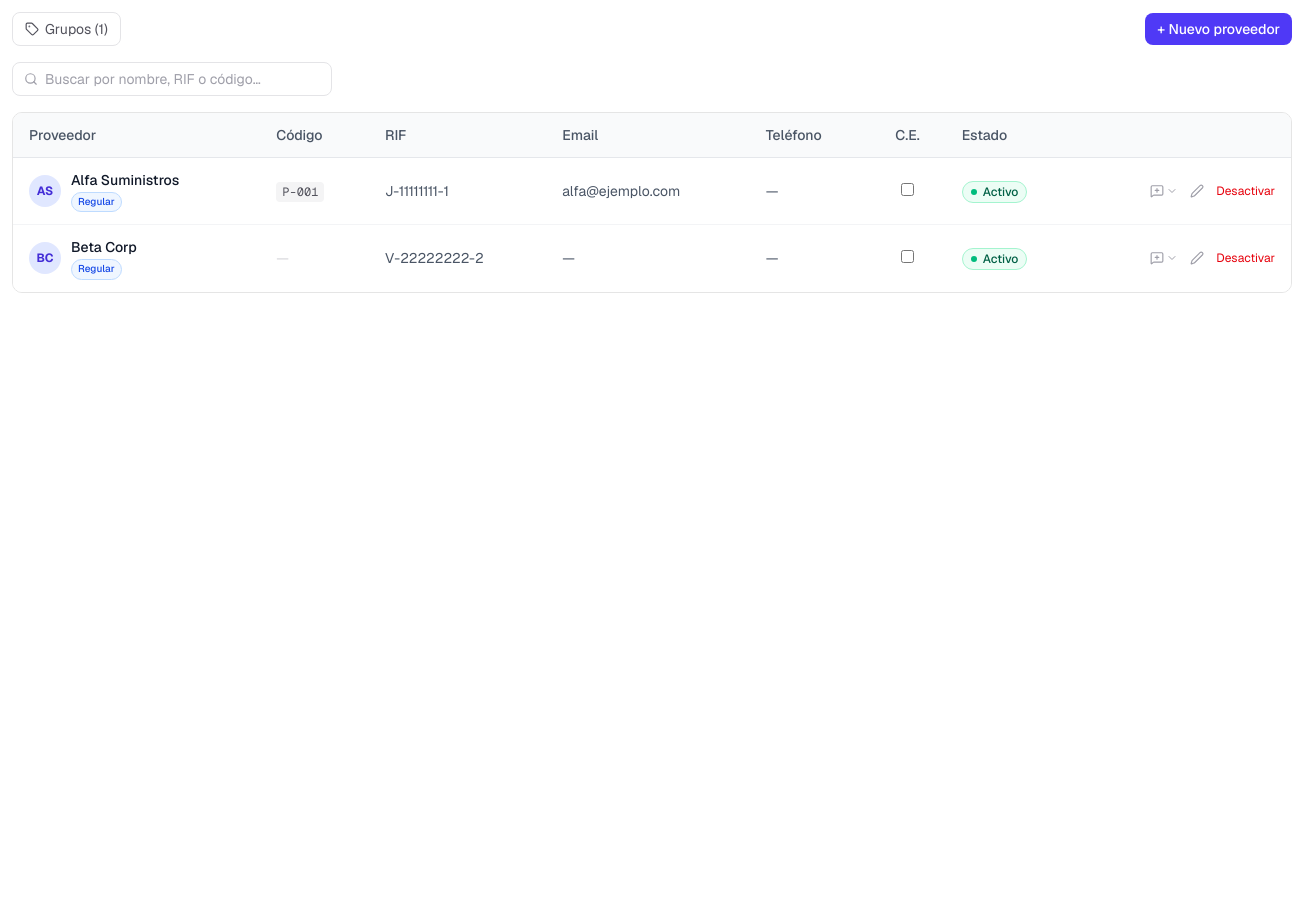
Test: VendorList — smoke del refactor RHF (P2) › createVendorAction failure → muestra el error de la action y el form sigue abierto
Click the button "+ Nuevo proveedor". click: {"x": 1219, "y": 29}
box: [1145,13,1292,45]
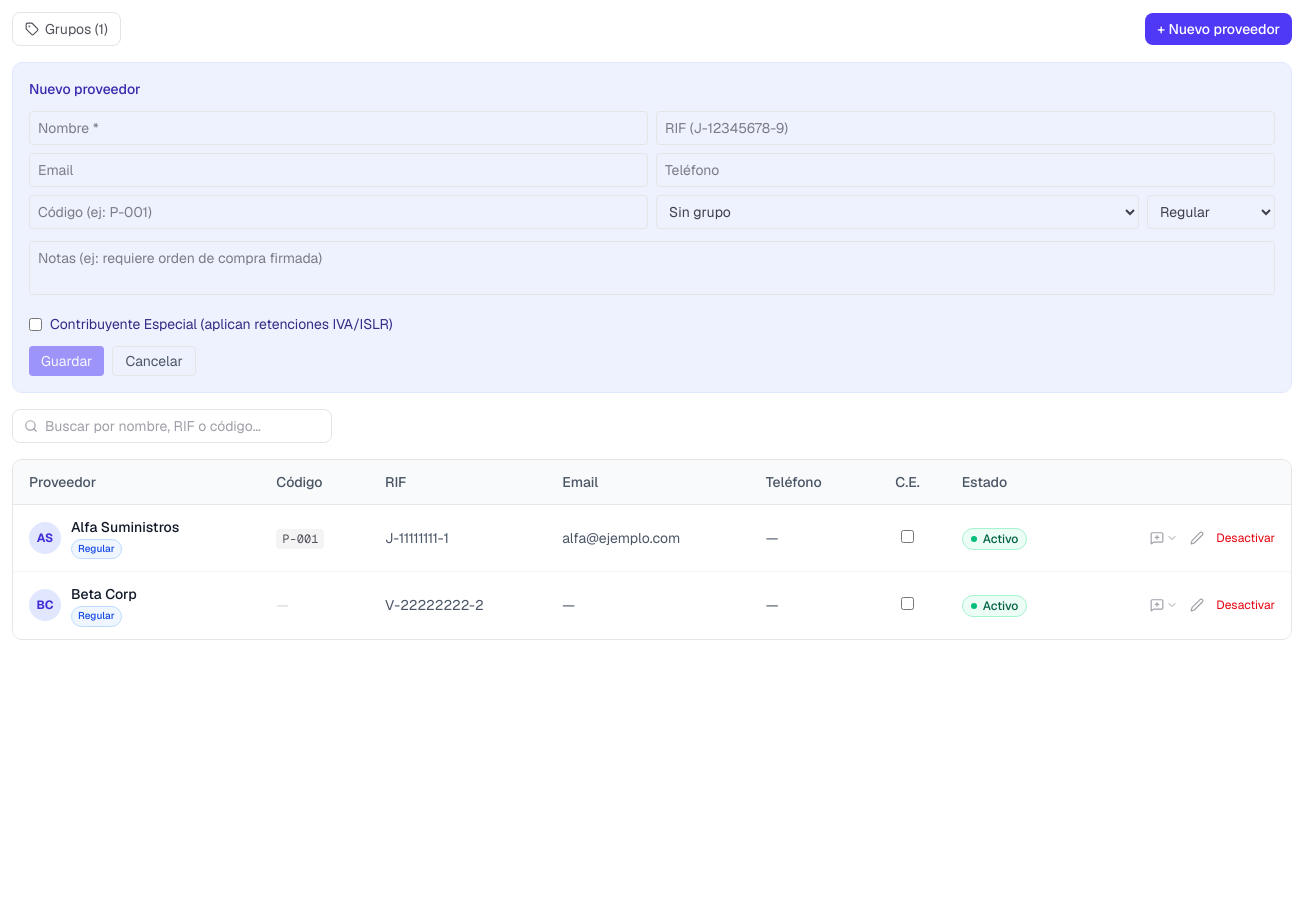
Type "Proveedor Duplicado" into the field with placeholder "Nombre *". click: {"x": 338, "y": 128}
box: [29,111,648,145]
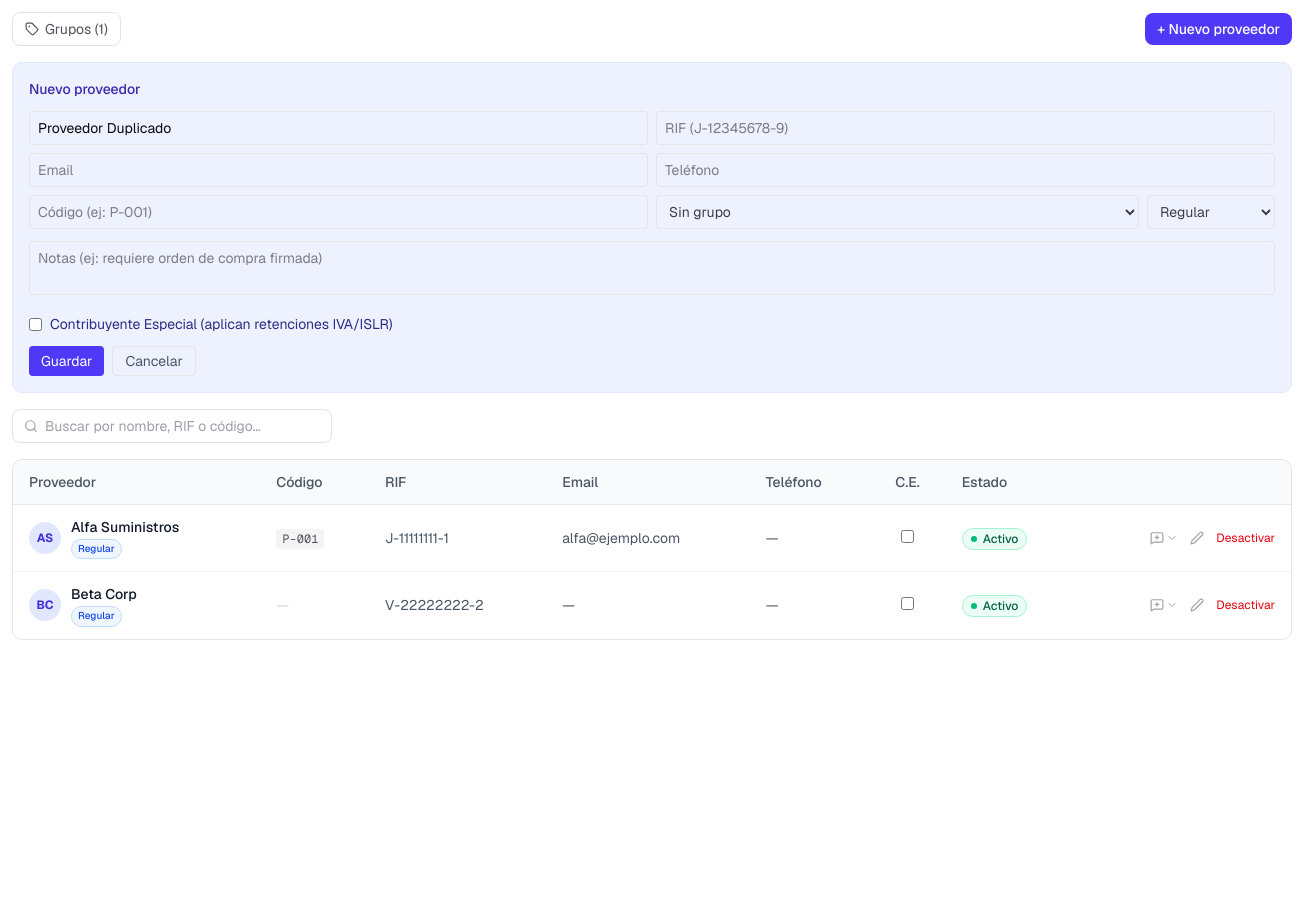
Click the button "Guardar". click: {"x": 67, "y": 361}
box: [29,346,104,376]
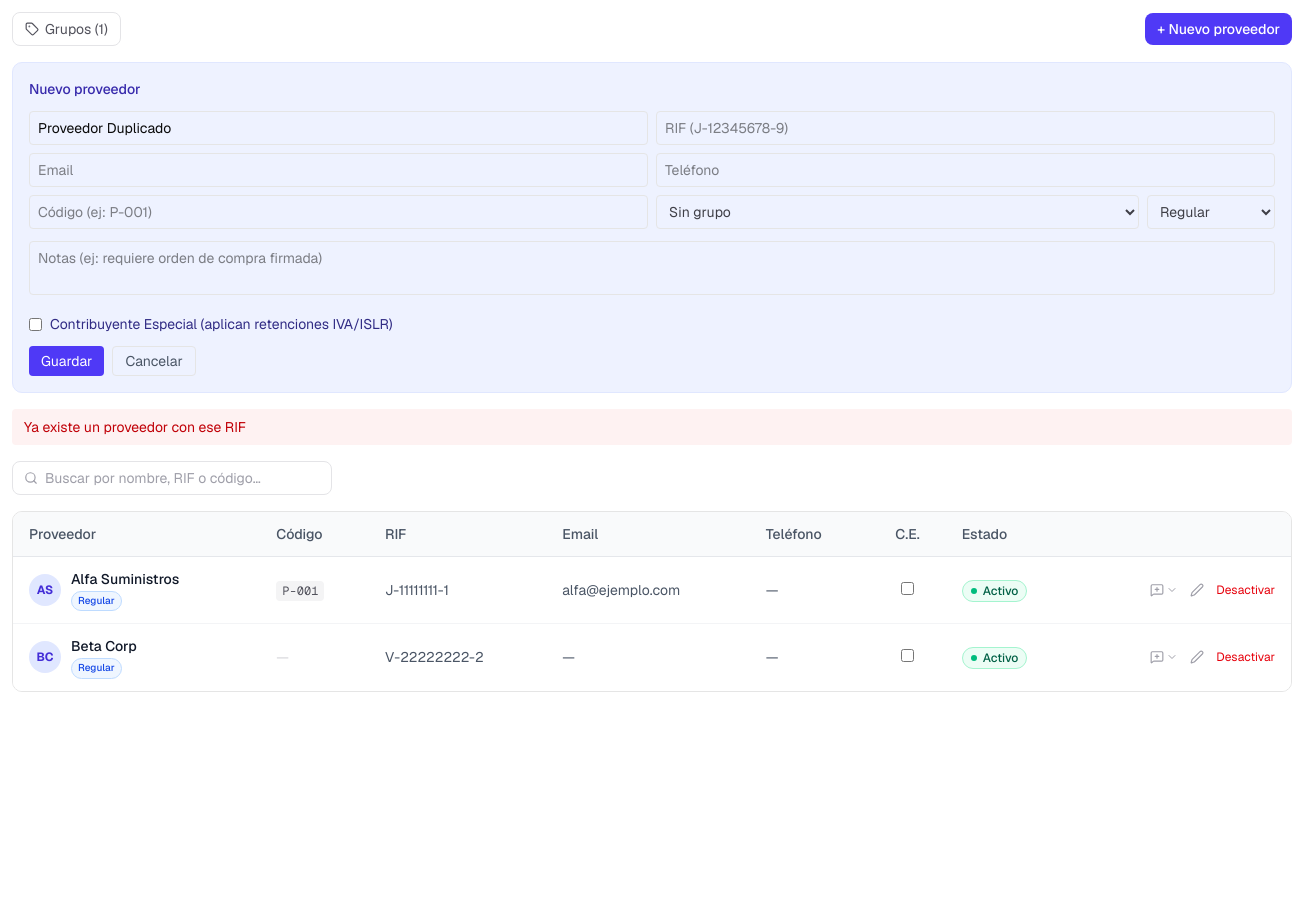
Expected: the text "Ya existe un proveedor con ese RIF" is shown, [12,409,1292,445]
